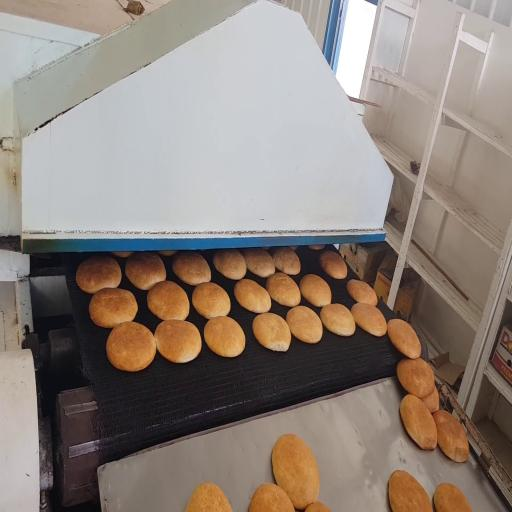bread: (272, 434, 319, 510), (107, 322, 156, 371), (400, 395, 437, 449), (155, 320, 201, 363), (89, 288, 137, 328), (433, 410, 469, 462), (389, 470, 432, 511), (76, 256, 121, 293), (204, 317, 245, 357), (147, 281, 189, 320), (125, 253, 166, 290), (253, 313, 291, 351), (397, 359, 434, 398), (192, 283, 230, 319), (286, 306, 322, 343), (186, 483, 232, 511), (388, 319, 421, 358), (172, 252, 211, 285), (234, 279, 271, 313), (249, 484, 294, 511), (351, 303, 386, 337), (266, 273, 300, 307), (320, 304, 355, 336), (212, 249, 246, 281), (434, 483, 471, 511), (300, 275, 331, 307), (243, 248, 275, 277), (319, 251, 347, 279), (347, 280, 377, 306), (273, 247, 300, 274), (422, 386, 439, 413), (306, 502, 330, 511), (112, 252, 133, 258), (158, 250, 177, 256), (309, 245, 325, 250), (290, 246, 298, 250)
